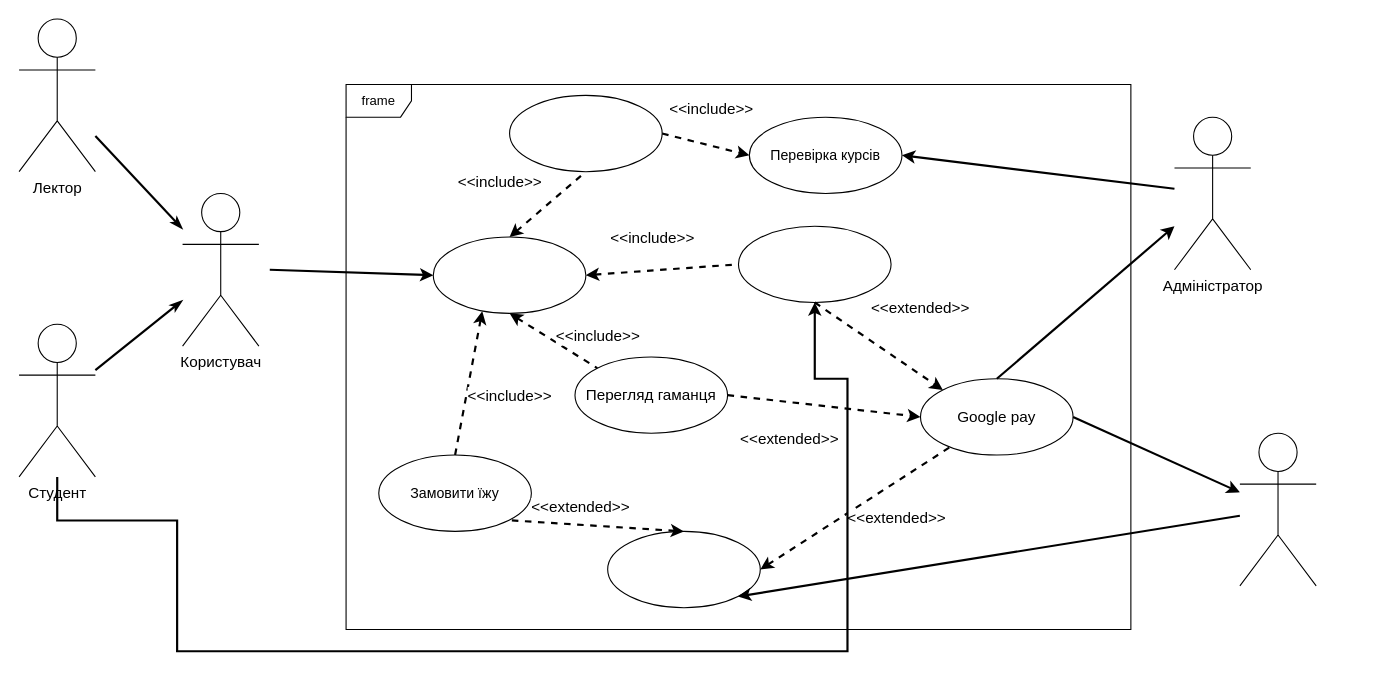
Some shapes in this 1377 by 680 pixel diagram are drawn without their labels. Here are the shapes that lost their labels. From the top down, the centre of each, then its label:
At (x=585, y=133): "Створення курсів".
At (x=509, y=274): "Авторизація користувача".
At (x=814, y=263): "Замовлення курсу".
At (x=1277, y=509): "Представник магазину".
At (x=683, y=569): "Пошук в магазинах партнерах".
